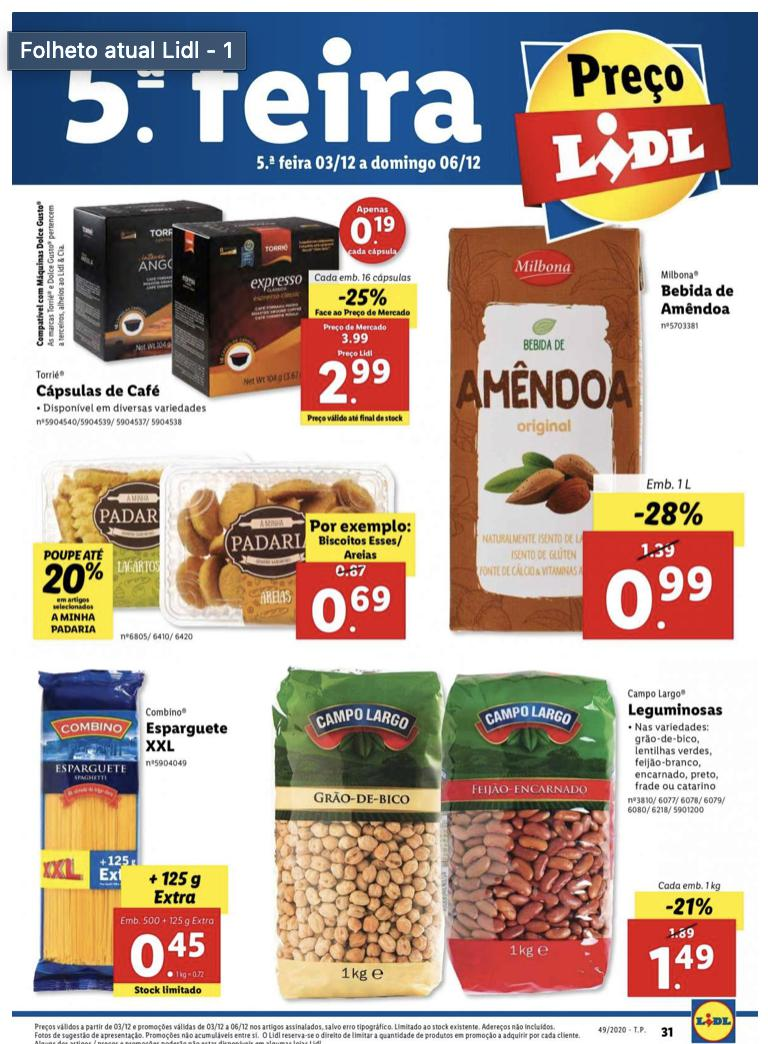name: (660, 282, 742, 322), (142, 721, 228, 754), (32, 380, 164, 401), (625, 700, 730, 723)
price: (603, 558, 721, 636), (313, 354, 397, 408), (307, 583, 391, 635), (130, 927, 208, 980), (648, 939, 720, 996)
product: (261, 652, 763, 1001), (437, 217, 763, 652), (15, 187, 428, 439), (6, 449, 426, 641), (26, 666, 228, 1005)
promotion: (633, 497, 706, 531), (42, 560, 107, 596), (334, 286, 393, 309), (664, 895, 716, 919)
